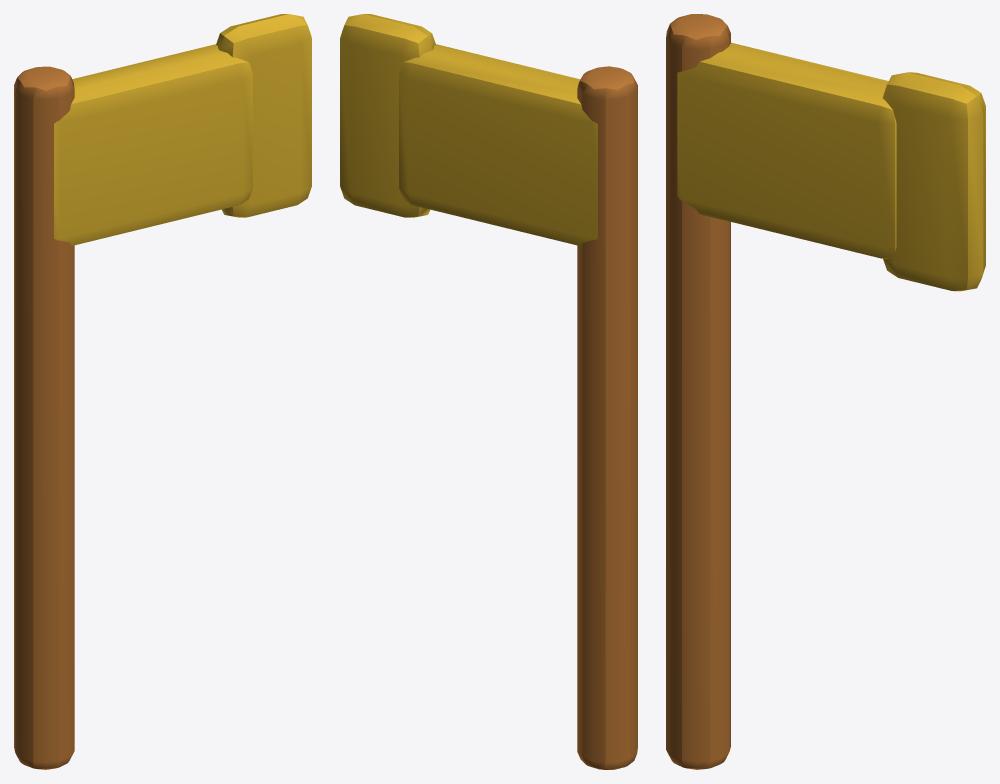
Rendered from equip_axe_fine.glb.
The picture shows the model from 3 angles, left to right: view 1: azimuth 30°, elevation 25°; view 2: azimuth 150°, elevation 25°; view 3: azimuth 330°, elevation 25°; orthographic projection. The views are drawn at different scales.
Visible parts, largest first — view 1: axe_handle, axe_head, axe_blade; view 2: axe_handle, axe_head, axe_blade; view 3: axe_handle, axe_head, axe_blade.
Boxes of the visible parts, x1,y1,x2,y2 form: axe_handle: [14, 66, 74, 769]; axe_head: [54, 44, 252, 245]; axe_blade: [216, 14, 311, 217]; axe_handle: [577, 66, 637, 769]; axe_head: [399, 44, 597, 246]; axe_blade: [340, 14, 435, 217]; axe_handle: [666, 14, 730, 769]; axe_head: [677, 42, 896, 258]; axe_blade: [883, 72, 985, 291].
Size of the model in its own units: 0.3184 by 0.72 by 0.06.
